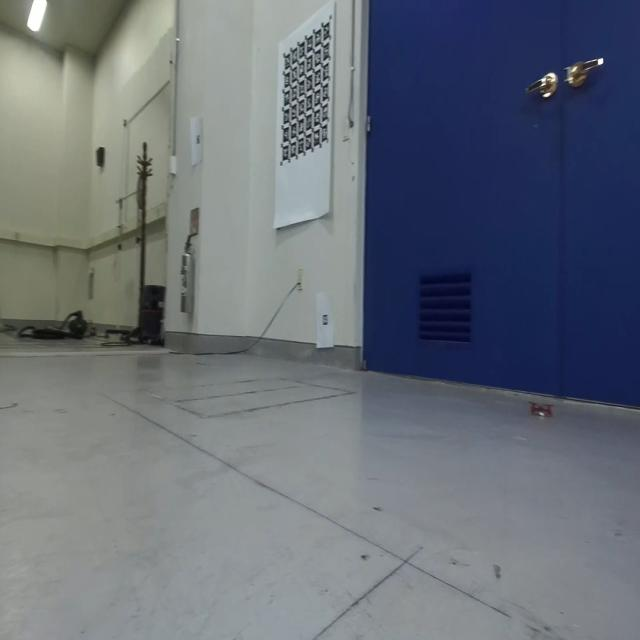crazyflie: (525, 395, 558, 427)
